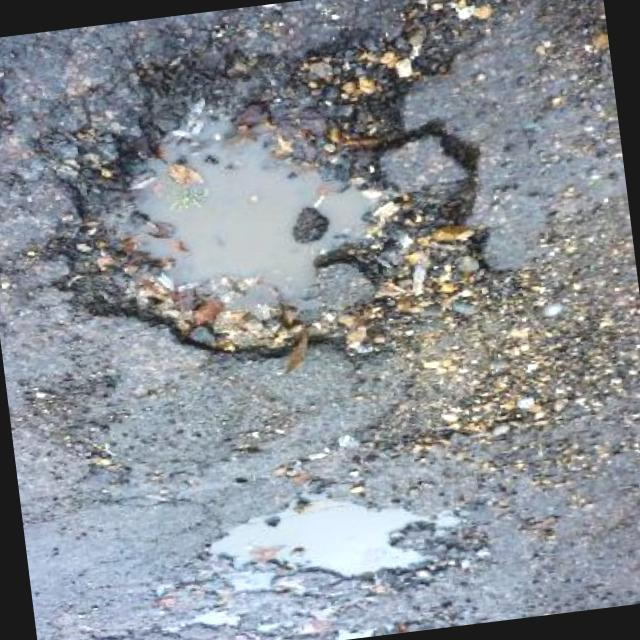Pothole: (66, 0, 640, 442), (211, 505, 487, 577)
